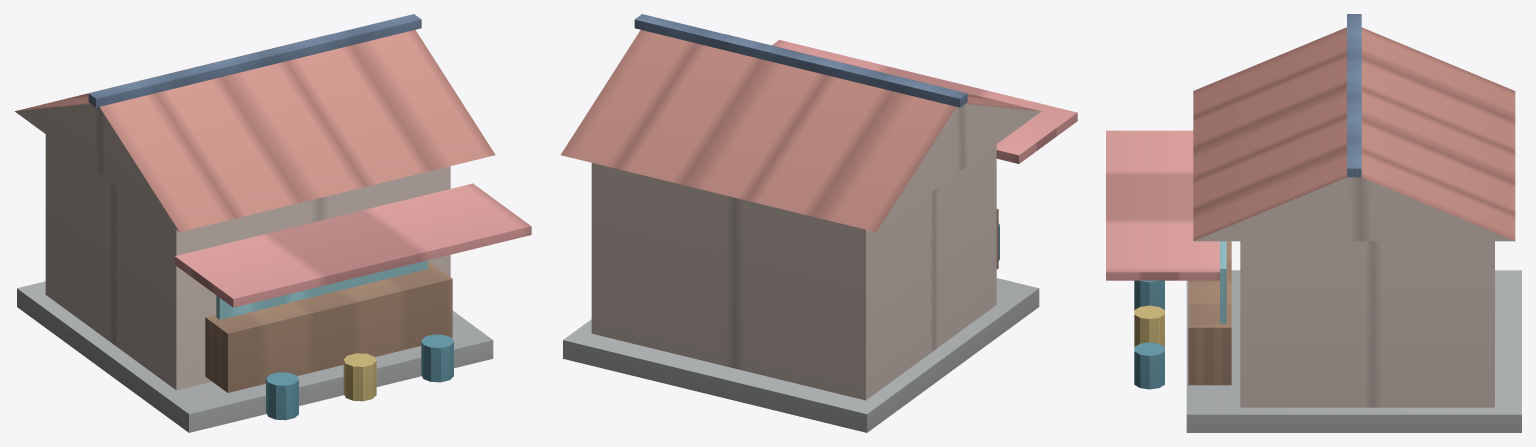
File: warung.glb
3 views of the same model, side by side, from view 1: azimuth 30°, elevation 25°; view 2: azimuth 150°, elevation 25°; view 3: azimuth 270°, elevation 25° (orthographic). The views are drawn at different scales.
Parts seen in each view (by area): view 1: warung; view 2: warung; view 3: warung.
Boxes of the visible parts, left/top/right/bottom form: warung: left=15, top=14, right=531, bottom=432; warung: left=561, top=14, right=1077, bottom=432; warung: left=1106, top=14, right=1521, bottom=432.
Size of the model in its own units: 5.46 by 4.43 by 6.2.
1 material, 1 textured.
